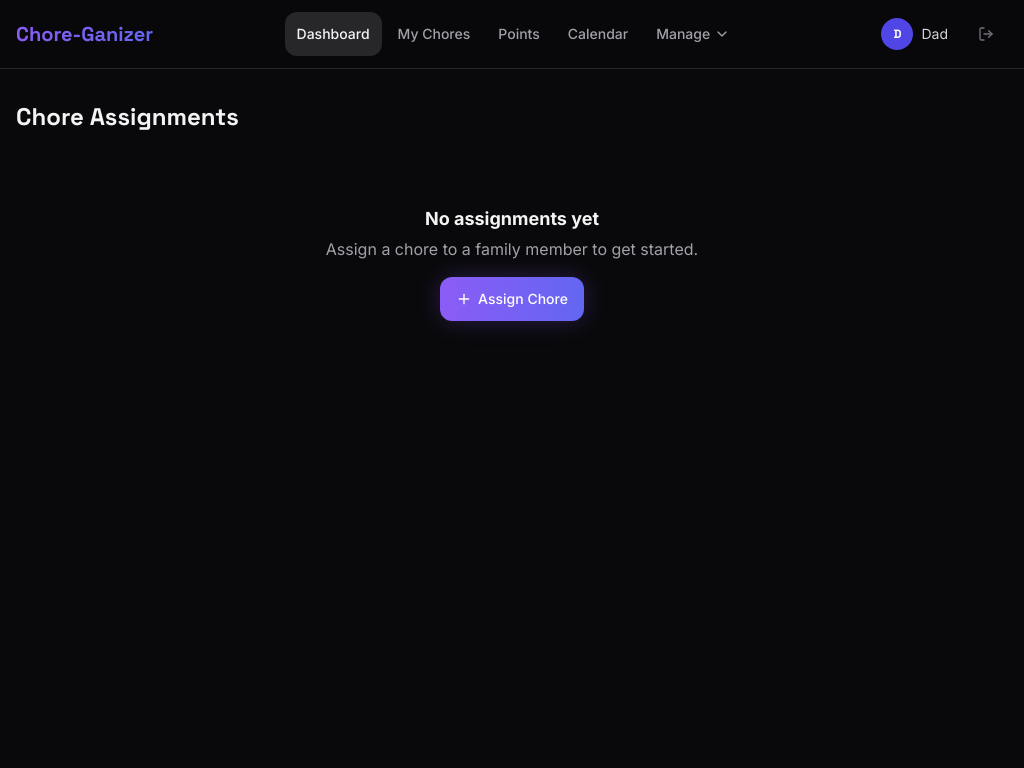
it: AssignmentsPage › opens create form when Assign Chore clicked
Click the button "Assign Chore" at [512, 299], box top-left (440, 277), bottom-right (584, 321)
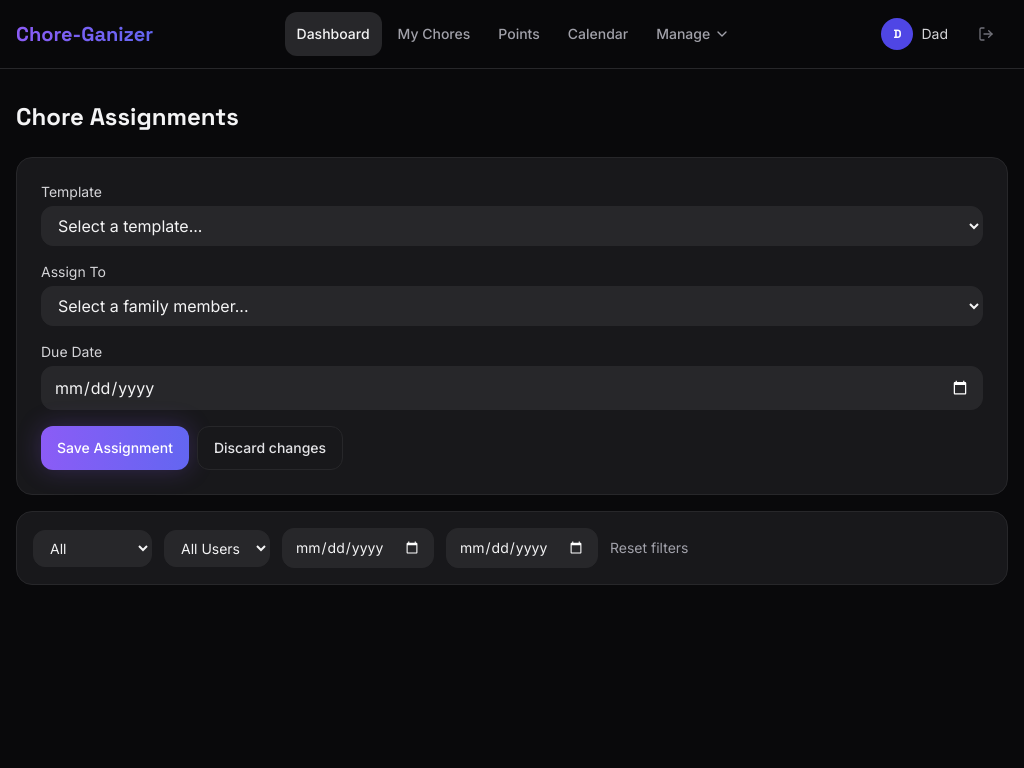
Expected: the dropdown labelled "Template" is shown, top-left (41, 206), bottom-right (983, 246)
Expected: the dropdown labelled "Assign To" is shown, top-left (41, 286), bottom-right (983, 326)
